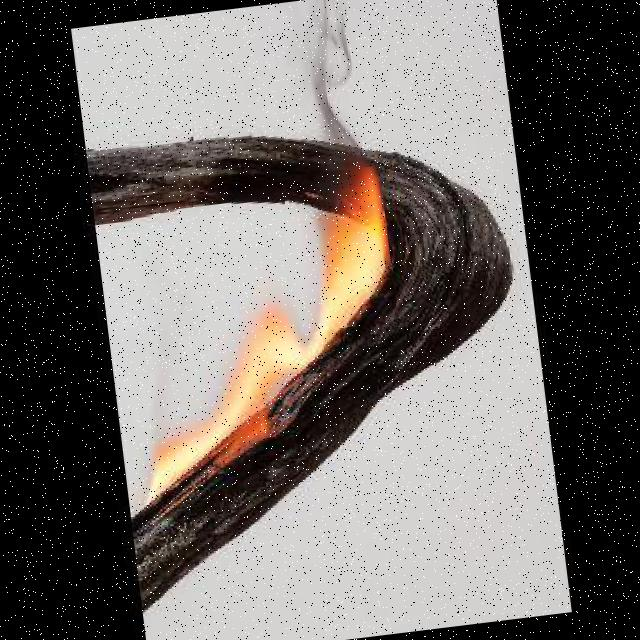fire: (282, 165, 398, 332)
